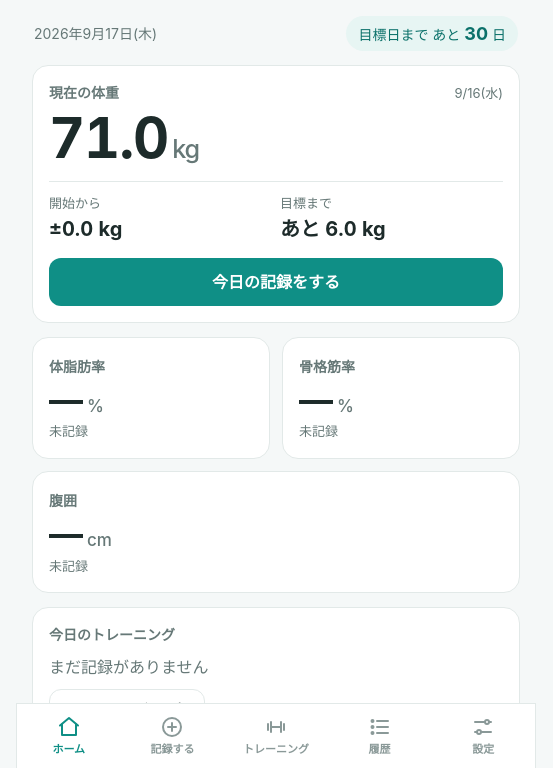
App › 履歴から編集できる
Click the button "履歴".
click(380, 736)  # box [328,704,431,767]
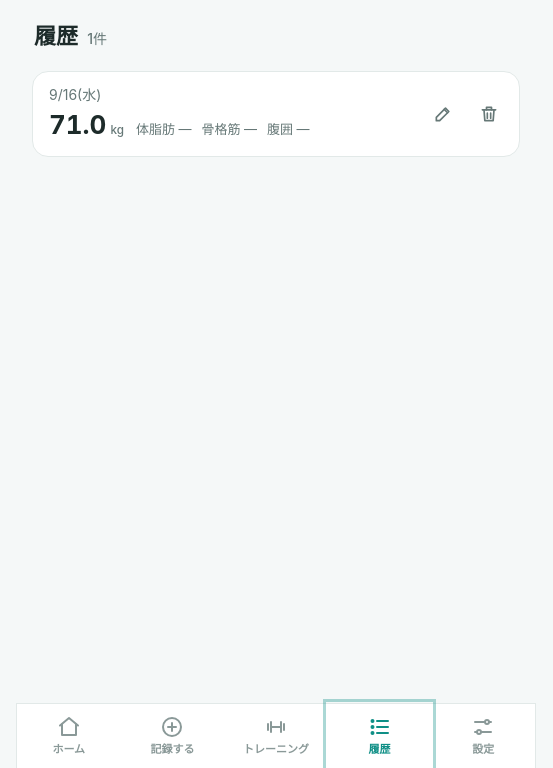
Click the button named "の記録を編集".
click(443, 114)  # box [421,92,465,136]
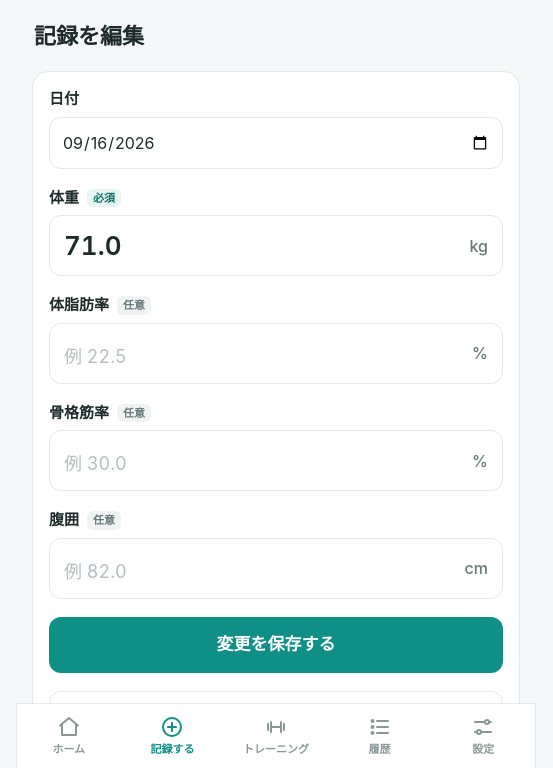
Now the field labelled "体重 必須" holds "71.0"
Replace the text in the field labelled "体重 必須" with "70.8" at (265, 246), box [64,216,466,275]
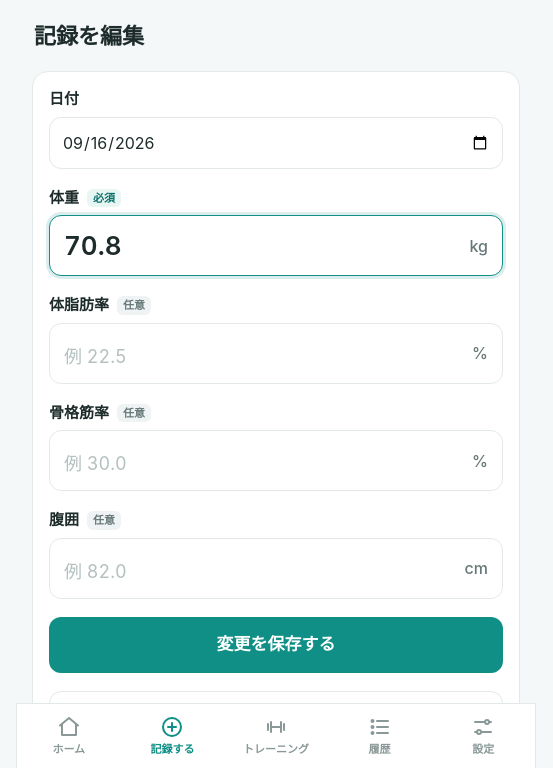
Click the button "変更を保存する".
click(276, 644)  # box [49,616,503,672]
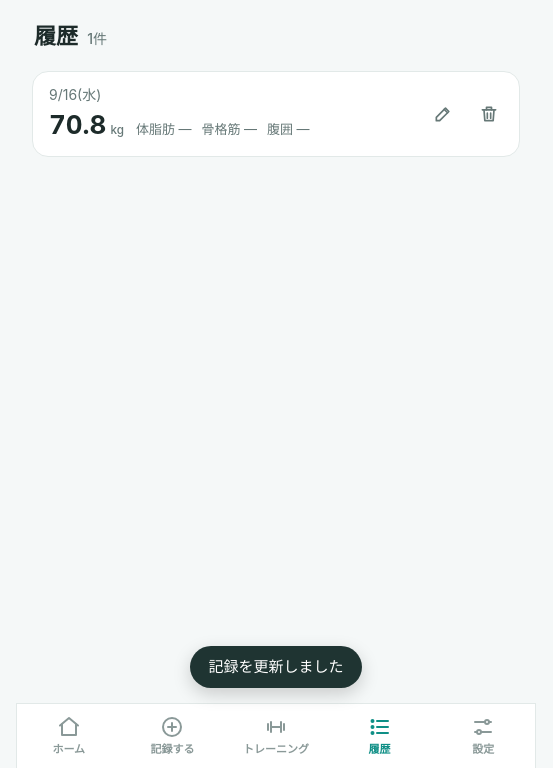
Now the text "記録を更新しました" is shown, box [208,656,344,676]
